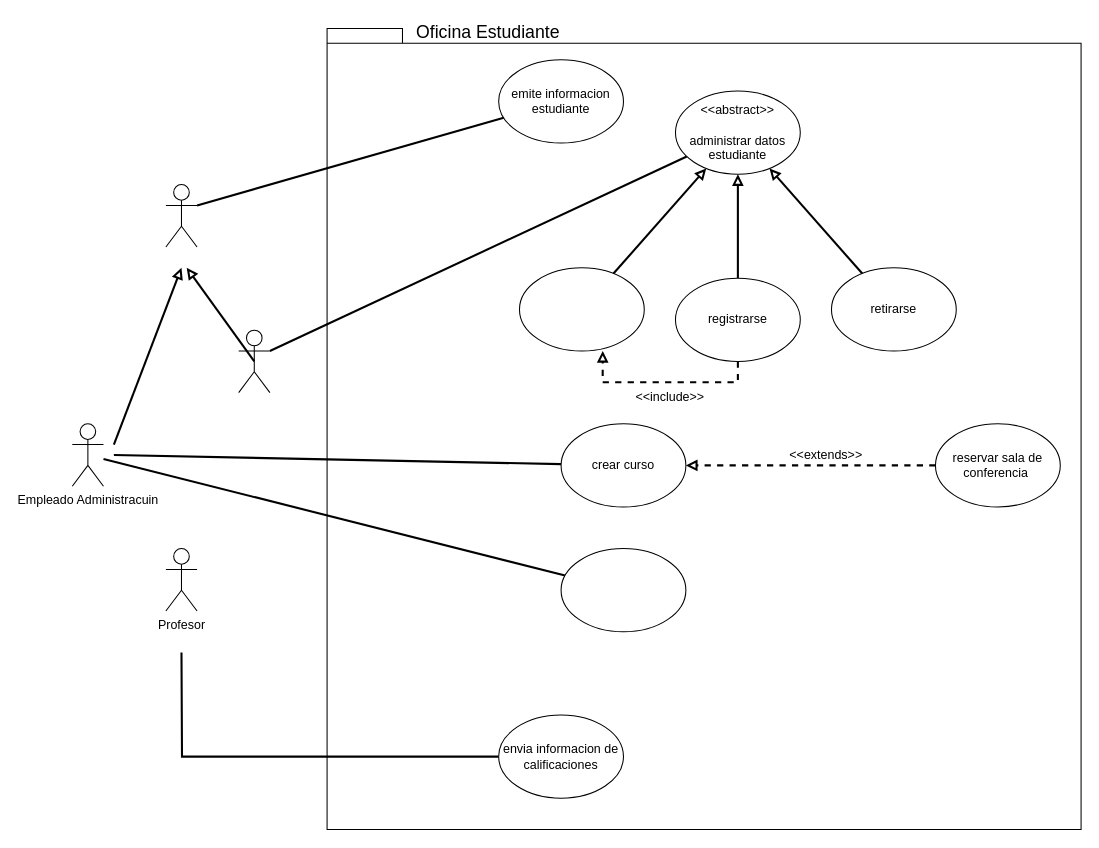
This 1099x848 diagram has some shape labels left out. Each missing label, with the centre of its shape:
emite certificado: [623,590]
Empleado: [181,215]
Empleado Servicio: [254,361]
matricularse: [581,309]
